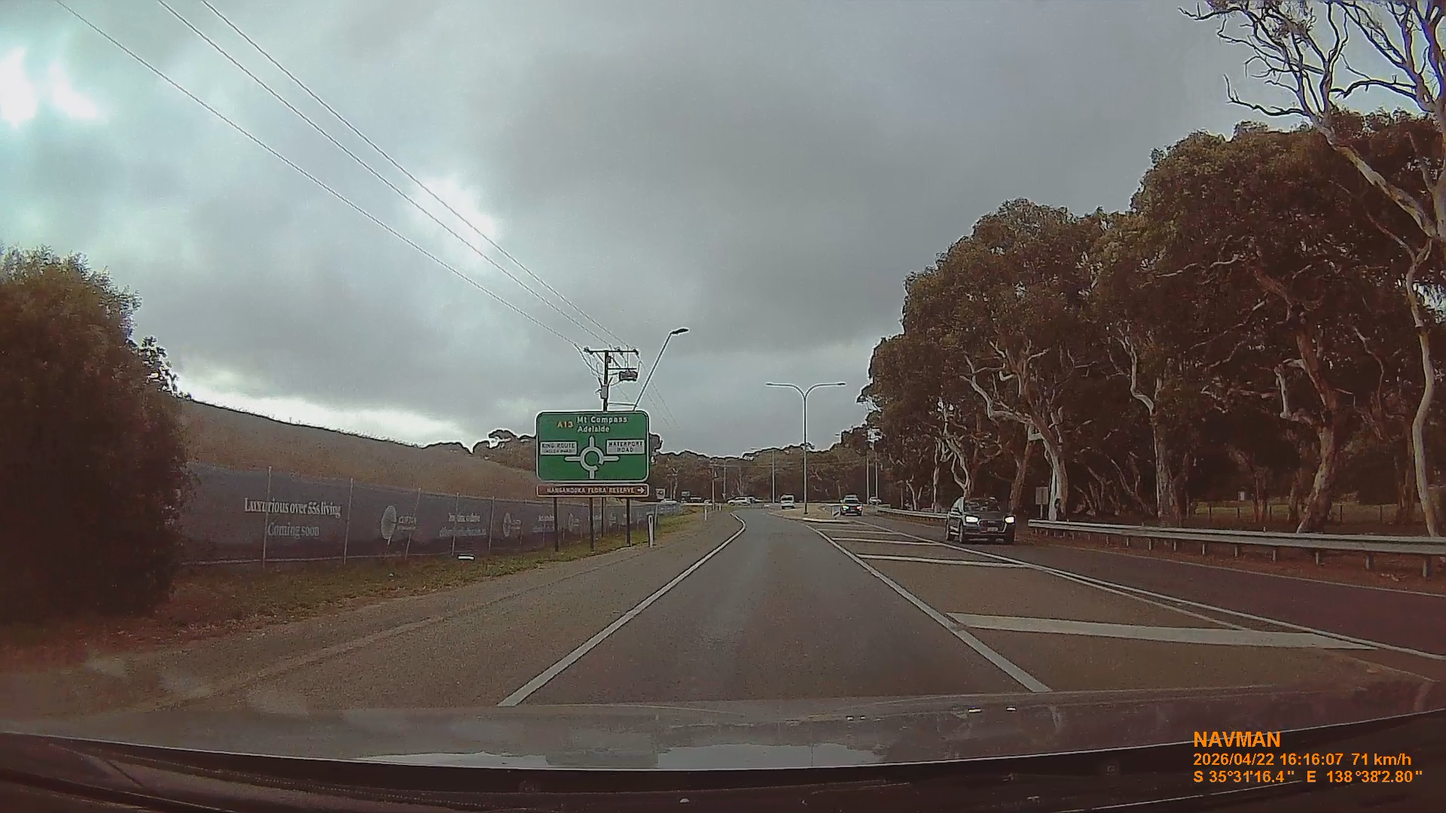road barriers: (1029, 521, 1445, 595), (892, 508, 948, 526)
